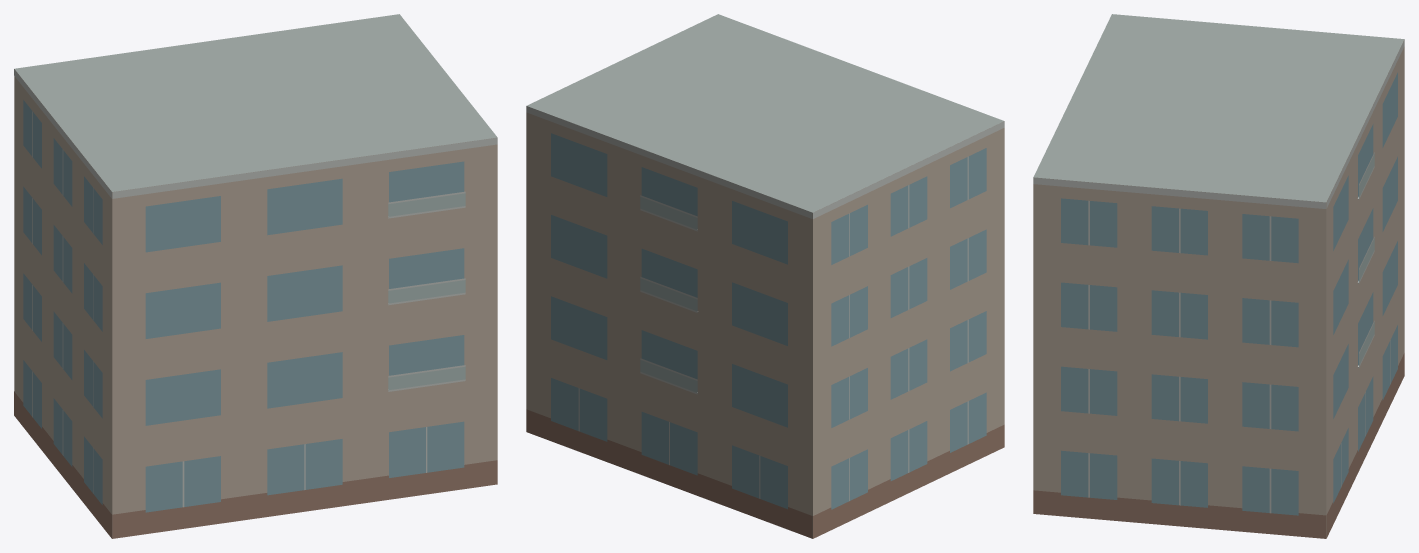
The model's file is residential-b24c6fd9-f81d-4c40-ab17-84c789c5af9b.glb.
3 views of the same model, side by side, from view 1: azimuth 30°, elevation 25°; view 2: azimuth 150°, elevation 25°; view 3: azimuth 270°, elevation 25° (orthographic). The views are drawn at different scales.
Visible parts, largest first — view 1: residential-b24c6fd9-f81d-4c40-ab17-84c789c5af9b.tmp; view 2: residential-b24c6fd9-f81d-4c40-ab17-84c789c5af9b.tmp; view 3: residential-b24c6fd9-f81d-4c40-ab17-84c789c5af9b.tmp.
Boxes of the visible parts, x1,y1,x2,y2 form: residential-b24c6fd9-f81d-4c40-ab17-84c789c5af9b.tmp: [14, 14, 497, 538]; residential-b24c6fd9-f81d-4c40-ab17-84c789c5af9b.tmp: [526, 14, 1004, 538]; residential-b24c6fd9-f81d-4c40-ab17-84c789c5af9b.tmp: [1033, 14, 1404, 538].
Bounding box in the file's own units: 14.66 × 12.2 × 12.21.
